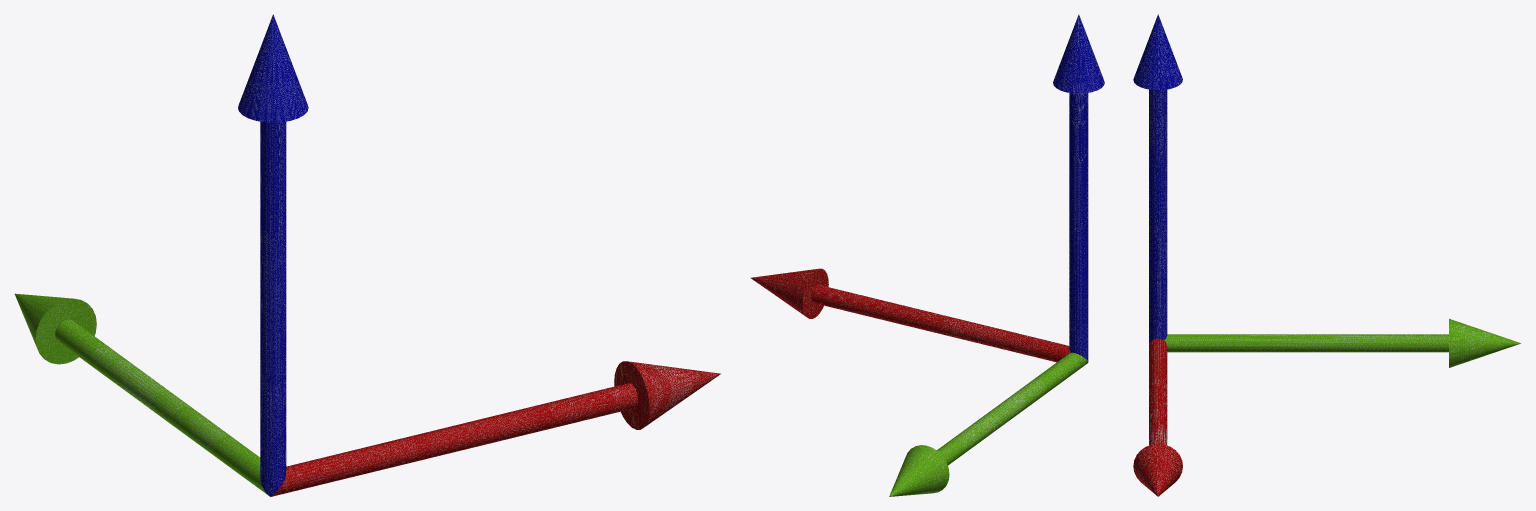
3 views of the same model, side by side, from view 1: azimuth 30°, elevation 25°; view 2: azimuth 150°, elevation 25°; view 3: azimuth 270°, elevation 25° (orthographic). The views are drawn at different scales.
Parts seen in each view (by area): view 1: SketchUp (×6); view 2: SketchUp (×6); view 3: SketchUp (×6).
Part boxes in pixels (x1,y1,x2,y2): SketchUp (×6): (14, 14, 720, 496); SketchUp (×6): (750, 14, 1104, 496); SketchUp (×6): (1133, 14, 1520, 496).
Size of the model in its own units: 128 by 128 by 128.
